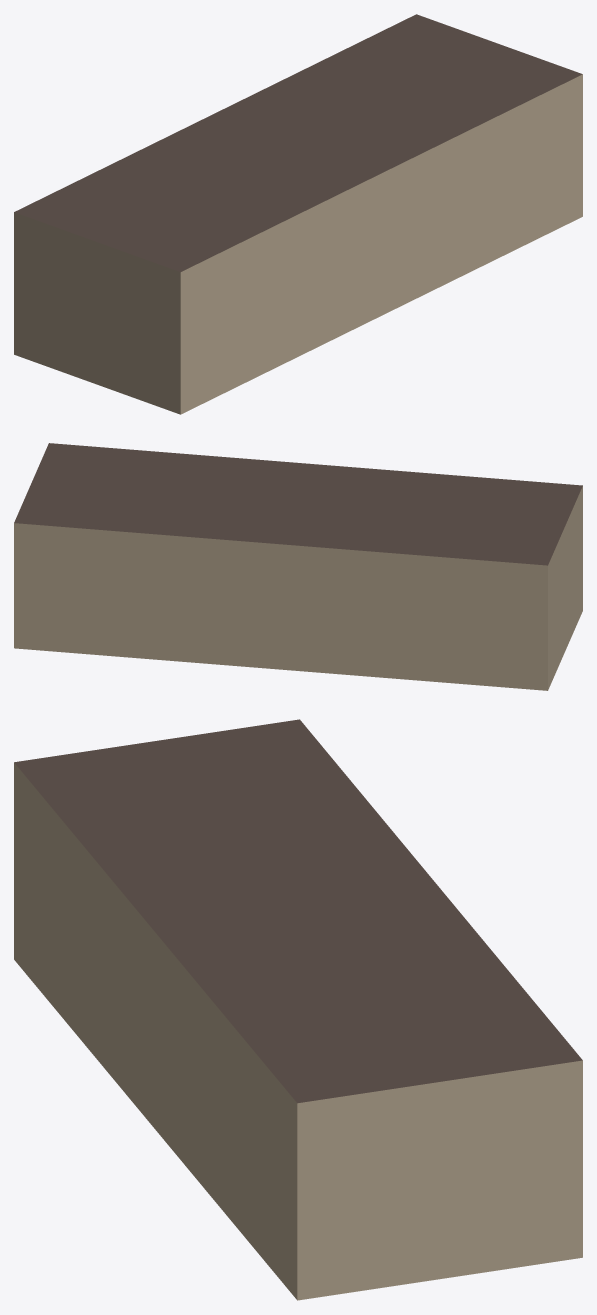
3 renders of one model, top to bottom at view 1: azimuth 30°, elevation 25°; view 2: azimuth 150°, elevation 25°; view 3: azimuth 270°, elevation 25°, orthographic. The views are drawn at different scales.
Parts seen in each view (by area): view 1: HP-w1435252836; view 2: HP-w1435252836; view 3: HP-w1435252836.
Part boxes in pixels (bbox=[...]): HP-w1435252836: bbox=[14, 14, 582, 414]; HP-w1435252836: bbox=[14, 443, 582, 690]; HP-w1435252836: bbox=[14, 719, 582, 1300].
Bounding box in the file's own units: 37.56 × 9 × 23.53.
